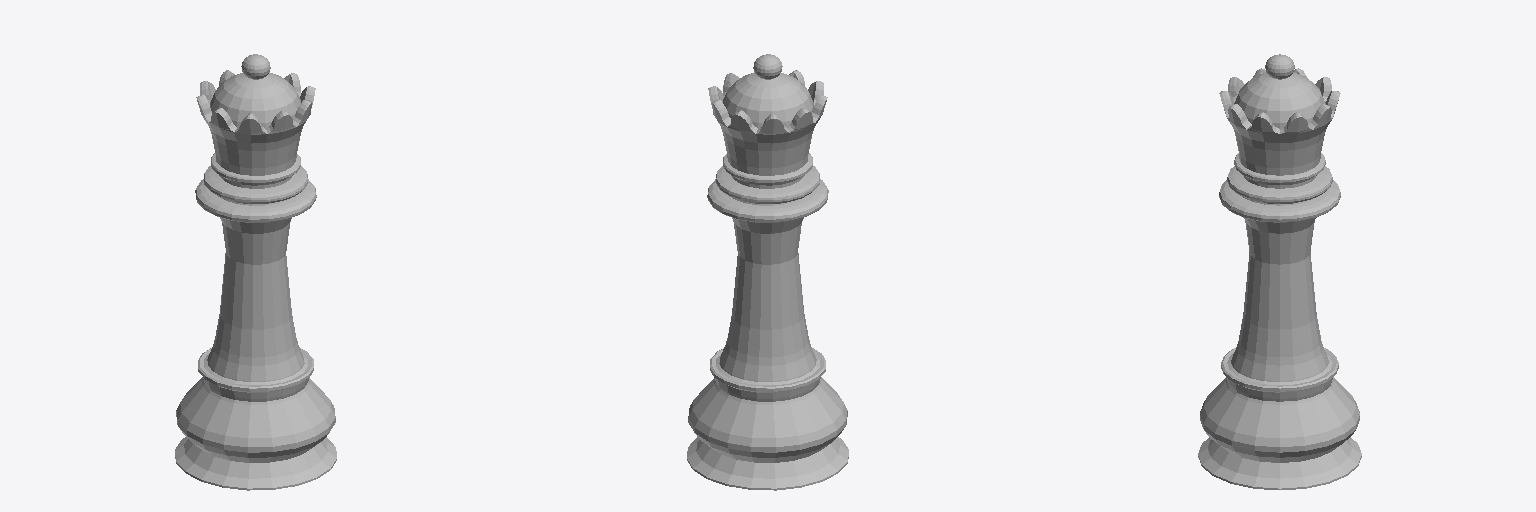
The picture shows the model from 3 angles: view 1: azimuth 30°, elevation 25°; view 2: azimuth 150°, elevation 25°; view 3: azimuth 270°, elevation 25°; orthographic projection.
Visible parts, largest first — view 1: Queen1_Queen1Shape; view 2: Queen1_Queen1Shape; view 3: Queen1_Queen1Shape.
Part boxes in pixels (left/top/right/bottom): Queen1_Queen1Shape: left=175, top=54, right=336, bottom=490; Queen1_Queen1Shape: left=687, top=54, right=848, bottom=490; Queen1_Queen1Shape: left=1198, top=54, right=1361, bottom=489.
Bounding box in the file's own units: 0.9958 × 2.7 × 1.
1 materials, 1 textured.